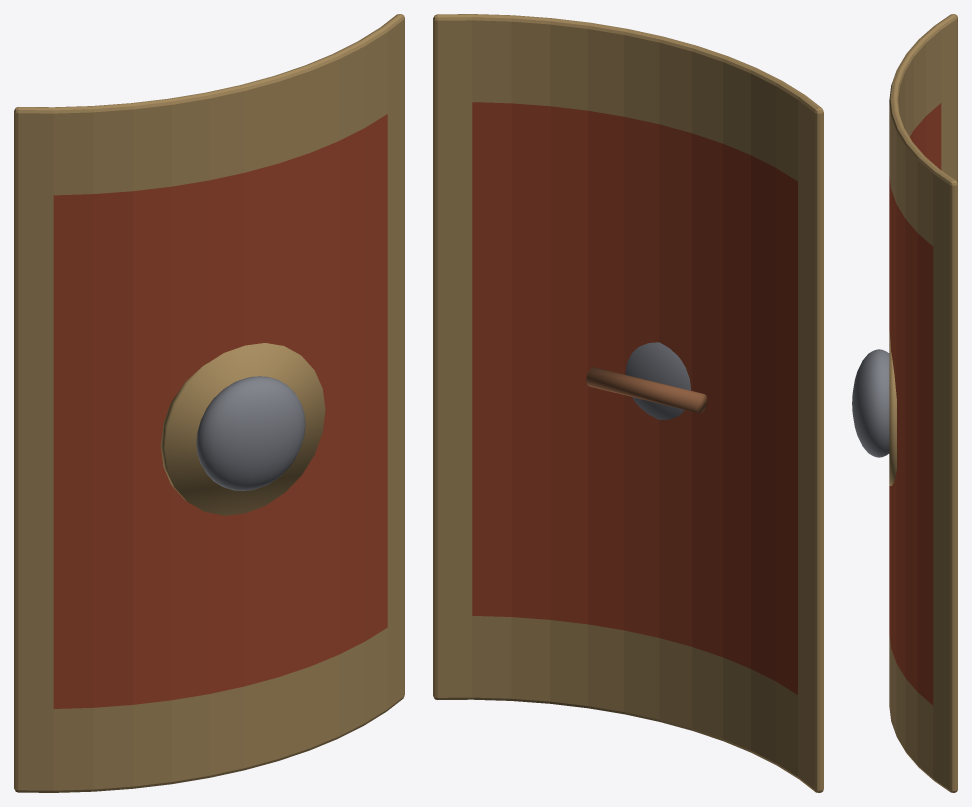
Rendered from shield_scutum.glb.
3 renders of one model, left to right at view 1: azimuth 30°, elevation 25°; view 2: azimuth 150°, elevation 25°; view 3: azimuth 270°, elevation 25°, orthographic. The views are drawn at different scales.
Visible parts, largest first — view 1: scutum_body, boss_plate, umbo; view 2: scutum_body, umbo, grip; view 3: scutum_body, umbo, boss_plate.
Boxes of the visible parts, x1=… form: scutum_body: x1=14, y1=14, x2=404, y2=792; boss_plate: x1=160, y1=343, x2=325, y2=515; umbo: x1=196, y1=376, x2=305, y2=490; scutum_body: x1=433, y1=14, x2=823, y2=792; umbo: x1=625, y1=342, x2=691, y2=419; grip: x1=586, y1=367, x2=707, y2=413; scutum_body: x1=889, y1=14, x2=957, y2=792; umbo: x1=852, y1=349, x2=889, y2=457; boss_plate: x1=889, y1=330, x2=896, y2=485.
Bounding box in the file's own units: 0.6309 × 1.06 × 0.1661.
